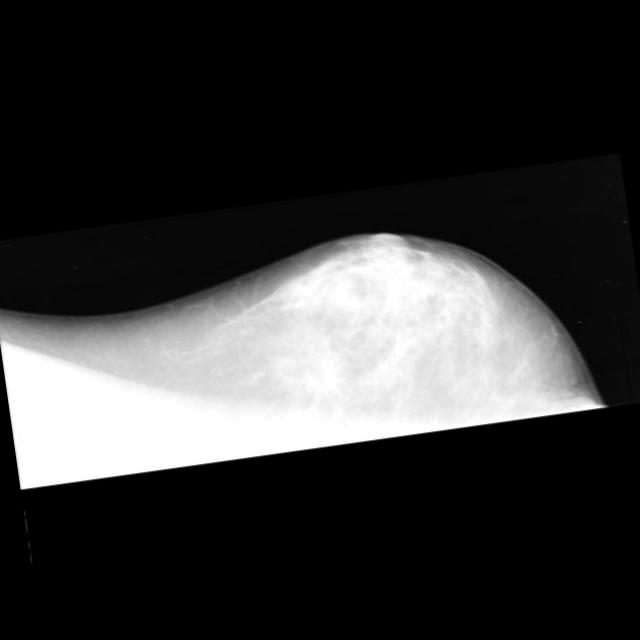SPIC: (296, 342, 354, 400)
